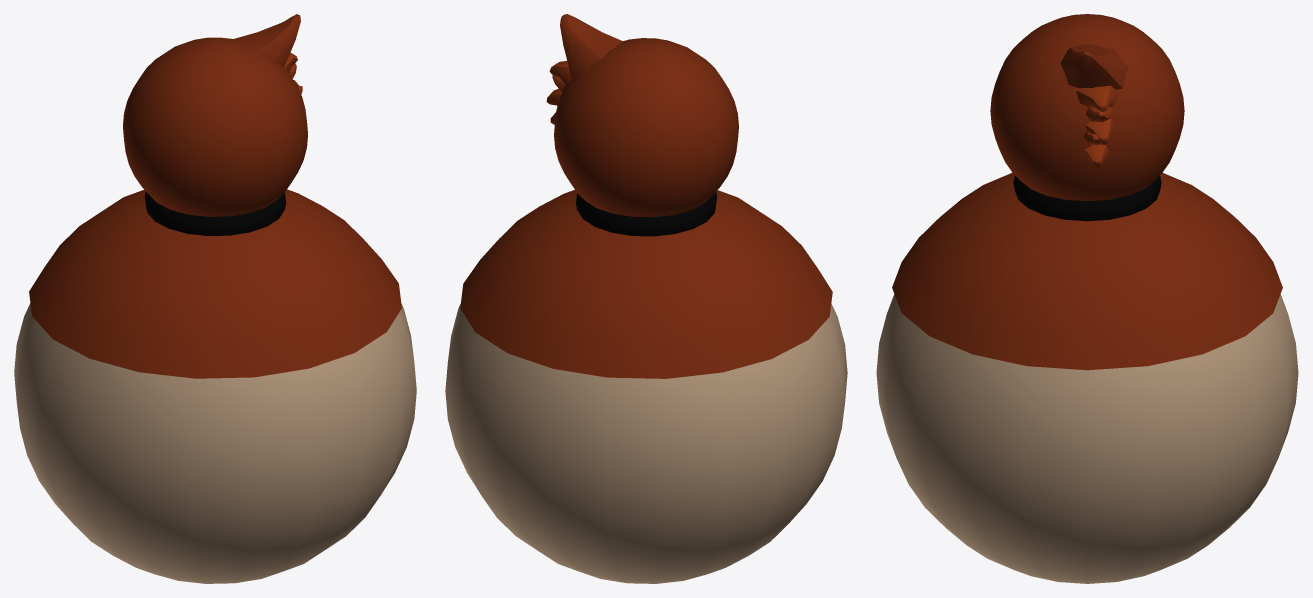
The model's file is bolitas2.fbx.
The picture shows the model from 3 angles, left to right: view 1: azimuth 30°, elevation 25°; view 2: azimuth 150°, elevation 25°; view 3: azimuth 270°, elevation 25°; orthographic projection. The views are drawn at different scales.
Visible parts, largest first — view 1: pasted__pSphere4, pasted__pSphere5, pasted__pasted__pSphere4, pasted__pTorus2, pasted__pCube3; view 2: pasted__pSphere4, pasted__pSphere5, pasted__pasted__pSphere4, pasted__pTorus2, pasted__pCube3; view 3: pasted__pSphere4, pasted__pSphere5, pasted__pasted__pSphere4, pasted__pTorus2, pasted__pCube3, pasted__pasted__pCube3.
Boxes of the visible parts, <box> form: pasted__pSphere4: <box>14,303,416,583</box>; pasted__pSphere5: <box>29,189,401,378</box>; pasted__pasted__pSphere4: <box>123,37,307,216</box>; pasted__pTorus2: <box>144,191,285,235</box>; pasted__pCube3: <box>233,14,300,68</box>; pasted__pSphere4: <box>445,303,847,583</box>; pasted__pSphere5: <box>460,190,832,378</box>; pasted__pasted__pSphere4: <box>554,38,738,217</box>; pasted__pTorus2: <box>576,192,716,236</box>; pasted__pCube3: <box>560,14,622,79</box>; pasted__pSphere4: <box>876,294,1298,583</box>; pasted__pSphere5: <box>892,172,1282,370</box>; pasted__pasted__pSphere4: <box>990,14,1184,201</box>; pasted__pTorus2: <box>1013,175,1161,221</box>; pasted__pCube3: <box>1060,44,1128,89</box>; pasted__pasted__pCube3: <box>1076,85,1118,111</box>.
Size of the model in its own units: 200 by 289 by 200.
